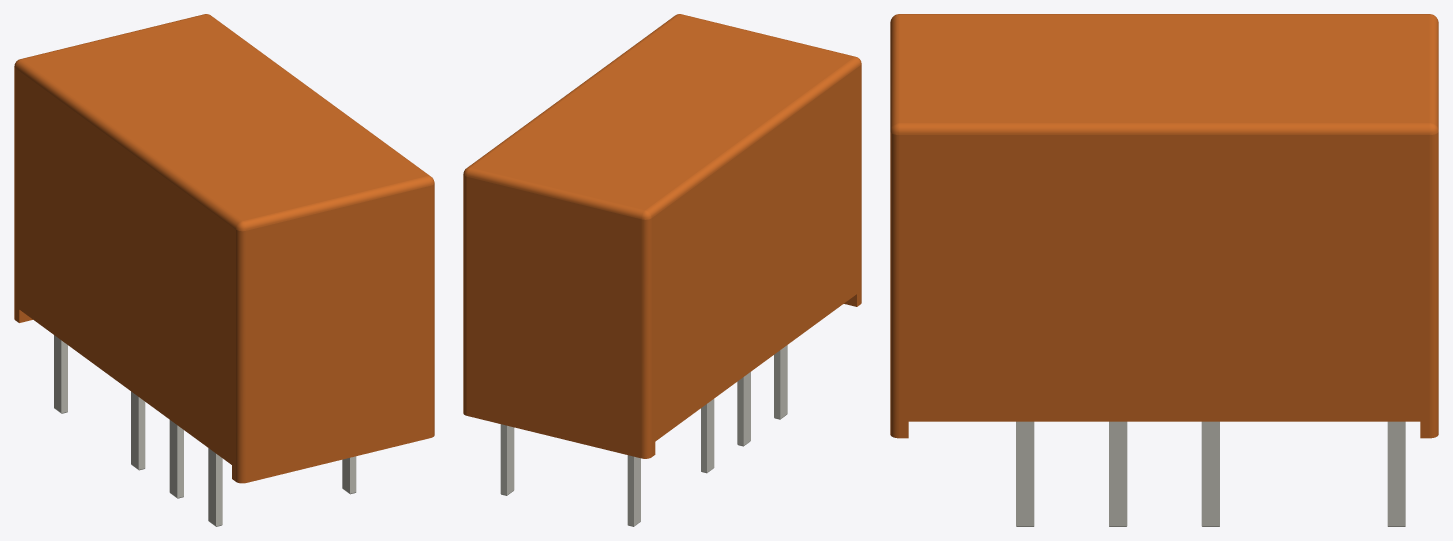
File: kc-relay_dpdt_kemet_ec2_nu.glb
3 views of the same model, side by side, from view 1: azimuth 30°, elevation 25°; view 2: azimuth 150°, elevation 25°; view 3: azimuth 270°, elevation 25° (orthographic). The views are drawn at different scales.
Parts seen in each view (by area): view 1: 0.5833333333333334_0.16666666666666666_0_0, 0.6666666666666666_0.6666666666666666_0.5833333333333334_0.8; view 2: 0.5833333333333334_0.16666666666666666_0_0, 0.6666666666666666_0.6666666666666666_0.5833333333333334_0.8; view 3: 0.5833333333333334_0.16666666666666666_0_0, 0.6666666666666666_0.6666666666666666_0.5833333333333334_0.8.
Boxes of the visible parts, <box> form: 0.5833333333333334_0.16666666666666666_0_0: <box>14,14,434,483</box>; 0.6666666666666666_0.6666666666666666_0.5833333333333334_0.8: <box>54,335,356,526</box>; 0.5833333333333334_0.16666666666666666_0_0: <box>463,14,861,458</box>; 0.6666666666666666_0.6666666666666666_0.5833333333333334_0.8: <box>500,345,787,526</box>; 0.5833333333333334_0.16666666666666666_0_0: <box>890,14,1438,438</box>; 0.6666666666666666_0.6666666666666666_0.5833333333333334_0.8: <box>1016,421,1405,526</box>.
Bounding box in the file's own units: 0.7501 × 1.26 × 1.5.
